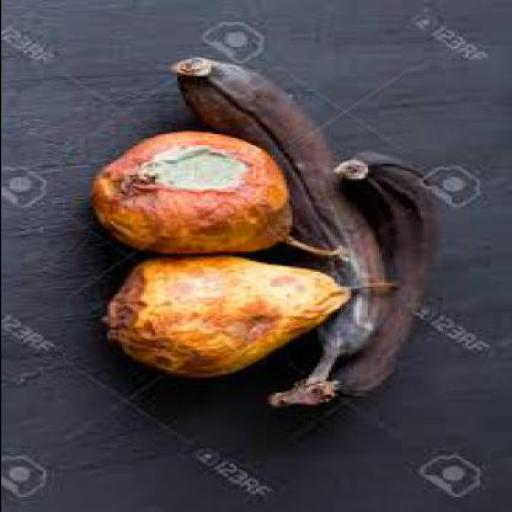biodegradable: (173, 56, 394, 404), (100, 253, 403, 376), (294, 151, 442, 402), (90, 128, 347, 252)
